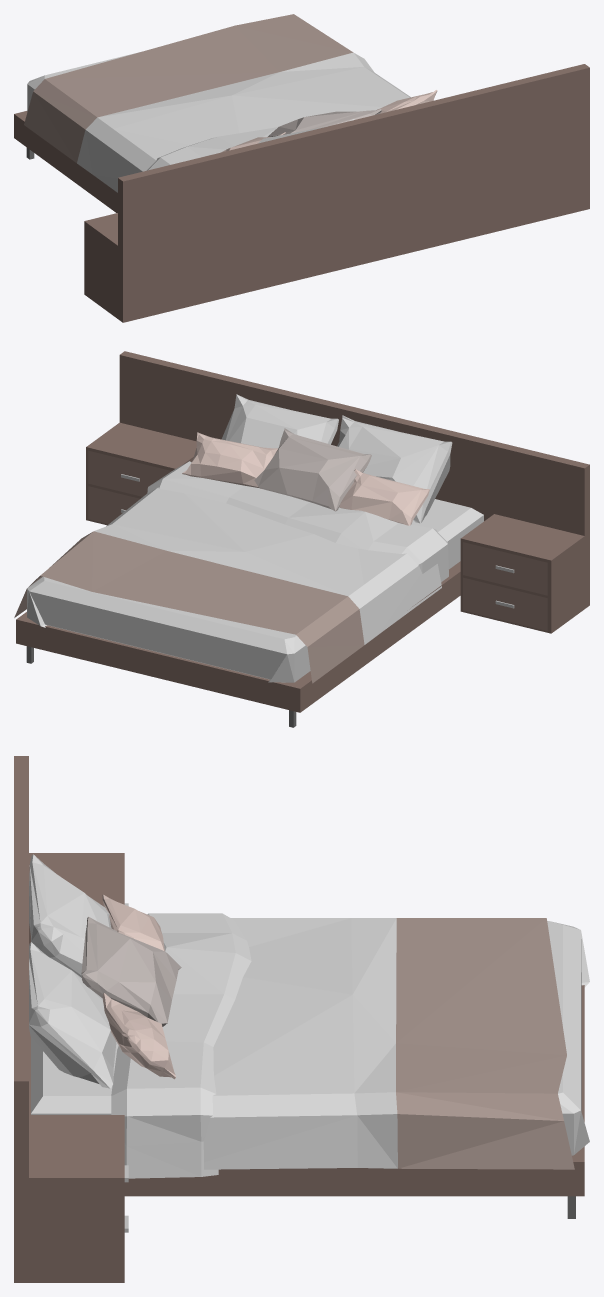
File: bed_queen.glb
The picture shows the model from 3 angles, top to bottom: view 1: azimuth 30°, elevation 25°; view 2: azimuth 150°, elevation 25°; view 3: azimuth 270°, elevation 25°; orthographic projection. The views are drawn at different scales.
Visible parts, largest first — view 1: furniture_032; view 2: furniture_032; view 3: furniture_032.
Part boxes in pixels (<box>): furniture_032: <box>14,14,589,322</box>; furniture_032: <box>14,351,589,727</box>; furniture_032: <box>14,756,589,1282</box>.
Bounding box in the file's own units: 2.44 × 0.7234 × 1.83.
